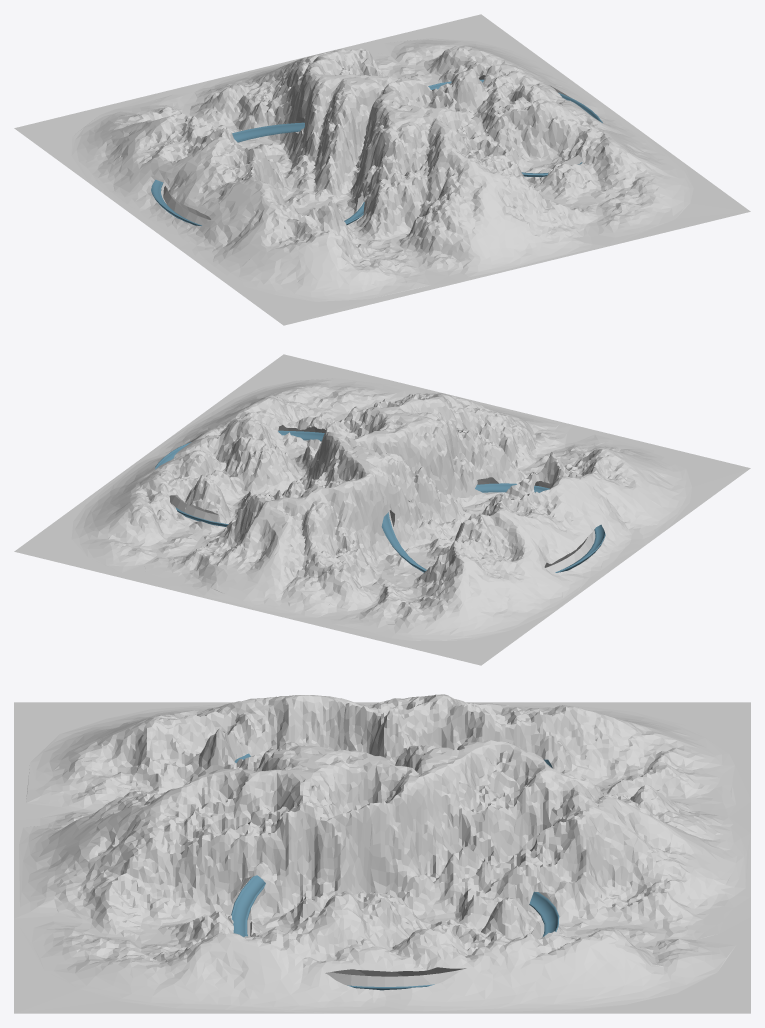
3 views of the same model, one above another, from view 1: azimuth 30°, elevation 25°; view 2: azimuth 150°, elevation 25°; view 3: azimuth 270°, elevation 25° (orthographic). The views are drawn at different scales.
Parts seen in each view (by area): view 1: Landscape, Track; view 2: Landscape, Track; view 3: Landscape, Track.
Boxes of the visible parts, box(x1,y1,x2,y2) form: Landscape: box(14, 14, 750, 325); Track: box(151, 79, 602, 225); Landscape: box(14, 354, 750, 665); Track: box(155, 430, 605, 572); Landscape: box(14, 694, 750, 1013); Track: box(231, 753, 559, 990).
Bounding box in the file's own units: 3002 × 470 × 3002.
